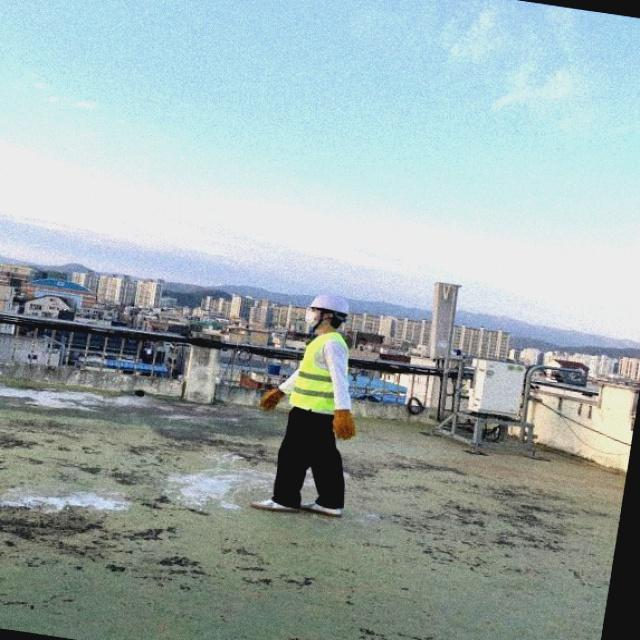Capacete: (309, 294, 348, 315)
Colete: (289, 331, 347, 412)
